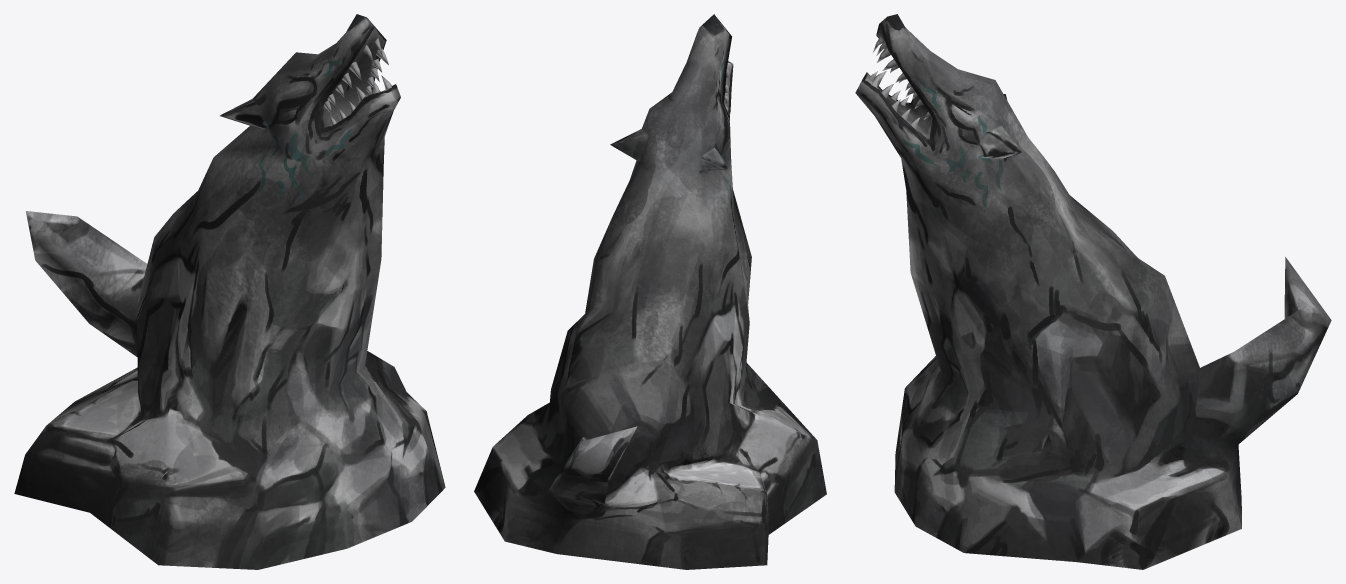
Rendered from PRP_CaveStatueHalfA.FBX.
The picture shows the model from 3 angles, left to right: view 1: azimuth 30°, elevation 25°; view 2: azimuth 150°, elevation 25°; view 3: azimuth 270°, elevation 25°; orthographic projection. The views are drawn at different scales.
Parts seen in each view (by area): view 1: PRP_CaveStatueHalfA; view 2: PRP_CaveStatueHalfA; view 3: PRP_CaveStatueHalfA.
Part boxes in pixels (x1,y1,x2,y2): PRP_CaveStatueHalfA: [14, 14, 445, 569]; PRP_CaveStatueHalfA: [474, 14, 826, 569]; PRP_CaveStatueHalfA: [855, 14, 1331, 569].
Bounding box in the file's own units: 177 × 244 × 218.
Materials: 1 (1 with a texture image).
